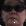without_mask: (1, 1, 26, 26)
